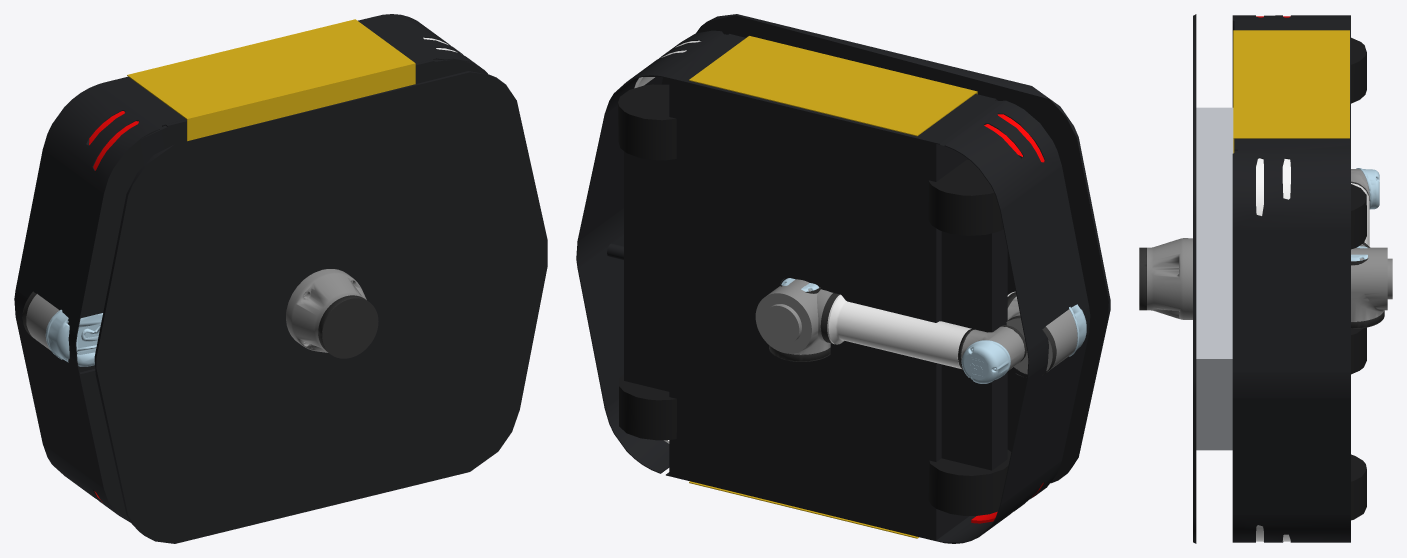
The model's file is ridgeback_ur5e.glb.
The picture shows the model from 3 angles, left to right: view 1: azimuth 30°, elevation 25°; view 2: azimuth 150°, elevation 25°; view 3: azimuth 270°, elevation 25°; orthographic projection. The views are drawn at different scales.
Parts seen in each view (by area): view 1: base_link, arm_0_upper_arm_link; view 2: base_link, arm_0_forearm_link, arm_0_shoulder_link, arm_0_upper_arm_link; view 3: base_link, arm_0_shoulder_link, arm_0_forearm_link, arm_0_wrist_1_link.
Part boxes in pixels (x1,y1,x2,y2): base_link: (14,14,547,543); arm_0_upper_arm_link: (22,291,102,366); base_link: (576,14,1110,543); arm_0_forearm_link: (817,289,1026,383); arm_0_shoulder_link: (755,279,830,361); arm_0_upper_arm_link: (1003,291,1086,377); base_link: (1139,14,1366,543); arm_0_shoulder_link: (1351,247,1387,328); arm_0_forearm_link: (1351,168,1379,247); arm_0_wrist_1_link: (1351,246,1392,299).
Bounding box in the file's own units: 0.9507 × 0.7932 × 0.4676.
